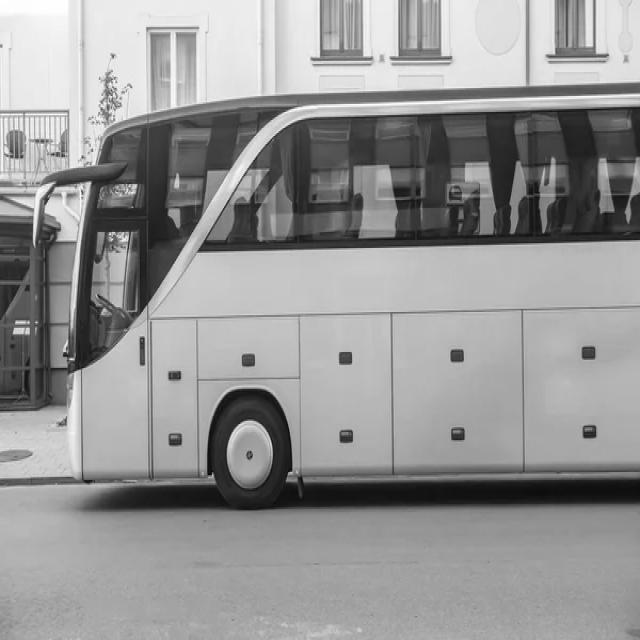Bus: (41, 83, 640, 506)
